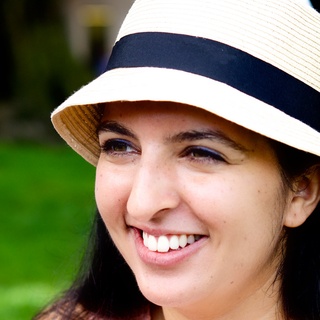eye: (176, 141, 232, 166), (99, 130, 139, 160)
